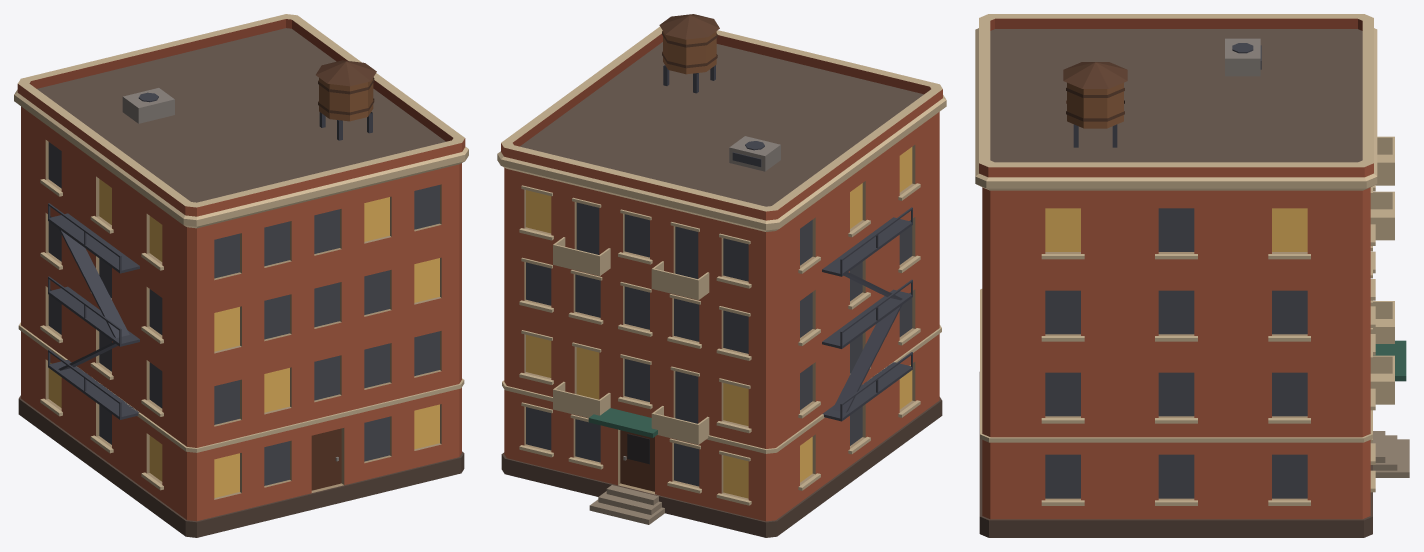
Rendered from Bldg_Apartment4.fbx.
3 views of the same model, side by side, from view 1: azimuth 30°, elevation 25°; view 2: azimuth 150°, elevation 25°; view 3: azimuth 270°, elevation 25° (orthographic). The views are drawn at different scales.
Visible parts, largest first — view 1: Bldg_Apartment4; view 2: Bldg_Apartment4; view 3: Bldg_Apartment4.
Boxes of the visible parts, x1,y1,x2,y2 form: Bldg_Apartment4: (14, 14, 468, 537); Bldg_Apartment4: (497, 14, 946, 537); Bldg_Apartment4: (975, 14, 1409, 537).
Bounding box in the file's own units: 2402 × 2980 × 2682.
Materials: 1 (1 with a texture image).
